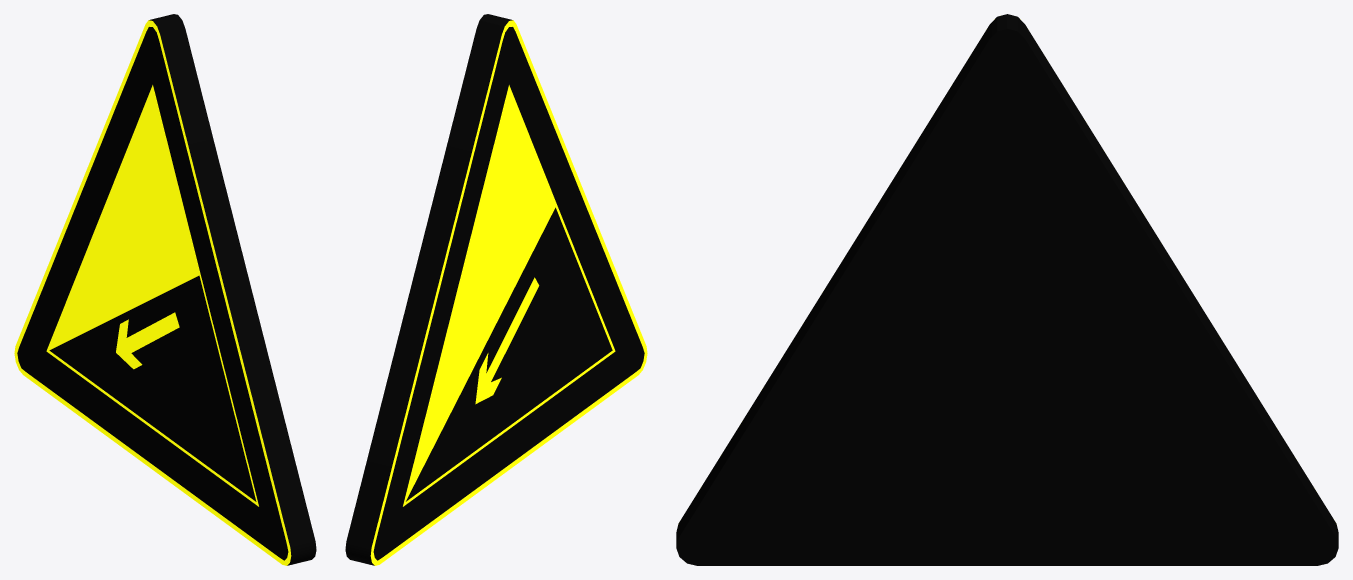
Rendered from Down_Steep_Slope.glb.
3 renders of one model, left to right at view 1: azimuth 30°, elevation 25°; view 2: azimuth 150°, elevation 25°; view 3: azimuth 270°, elevation 25°, orthographic. The views are drawn at different scales.
Visible parts, largest first — view 1: Down_Steep_Slope; view 2: Down_Steep_Slope; view 3: Down_Steep_Slope.
Part boxes in pixels (x1,y1,x2,y2): Down_Steep_Slope: (14, 14, 316, 565); Down_Steep_Slope: (345, 14, 647, 565); Down_Steep_Slope: (676, 14, 1338, 565).
Bounding box in the file's own units: 0.064 × 1.02 × 1.14.
